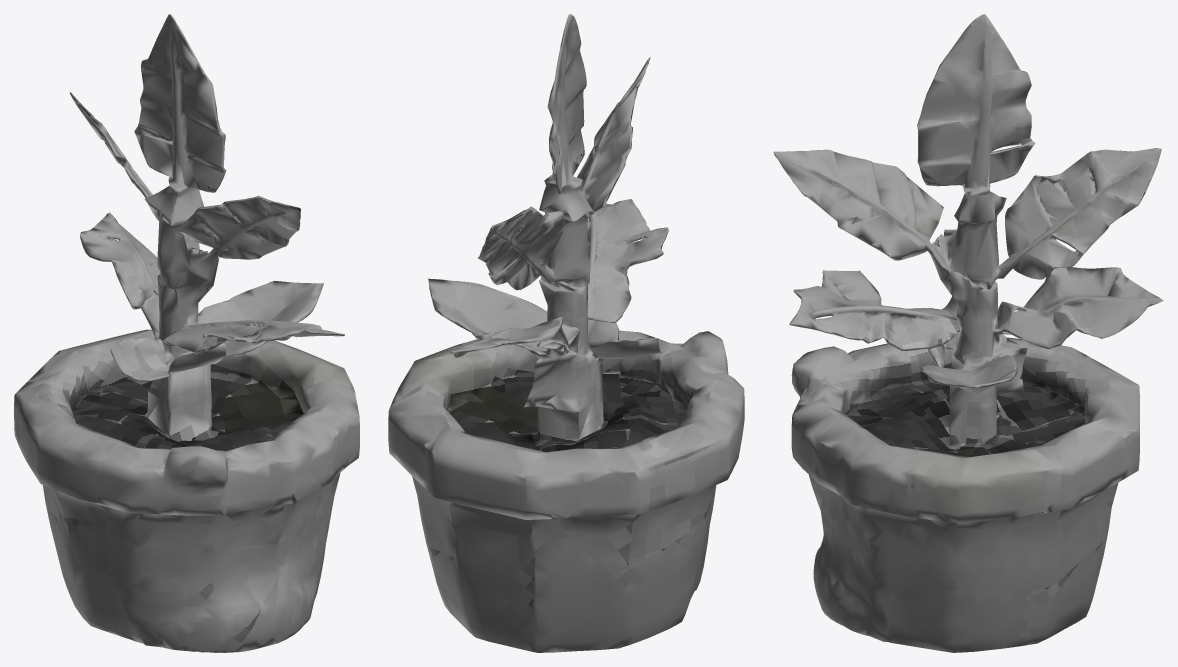
The model's file is l_potted_plant.glb.
3 views of the same model, side by side, from view 1: azimuth 30°, elevation 25°; view 2: azimuth 150°, elevation 25°; view 3: azimuth 270°, elevation 25° (orthographic). The views are drawn at different scales.
Visible parts, largest first — view 1: tripo_node_389992ed-f9f6-4841-825b-c150f2f0d731; view 2: tripo_node_389992ed-f9f6-4841-825b-c150f2f0d731; view 3: tripo_node_389992ed-f9f6-4841-825b-c150f2f0d731.
Part boxes in pixels (x1,y1,x2,y2): tripo_node_389992ed-f9f6-4841-825b-c150f2f0d731: (14, 14, 359, 652); tripo_node_389992ed-f9f6-4841-825b-c150f2f0d731: (388, 14, 744, 652); tripo_node_389992ed-f9f6-4841-825b-c150f2f0d731: (773, 14, 1163, 652).
Bounding box in the file's own units: 0.5489 × 0.9993 × 0.6027.
1 material, 1 textured.
